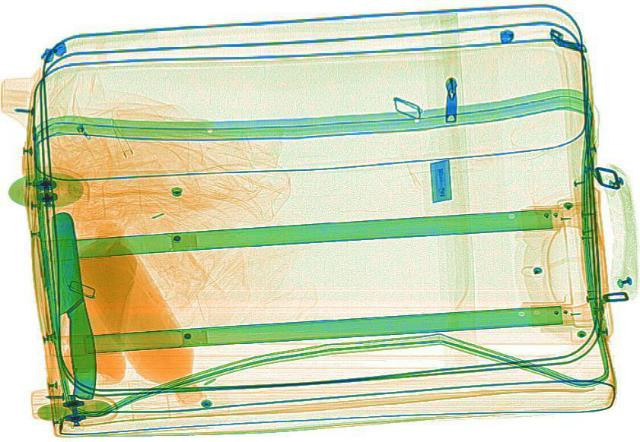Knife: (26, 207, 104, 402)
